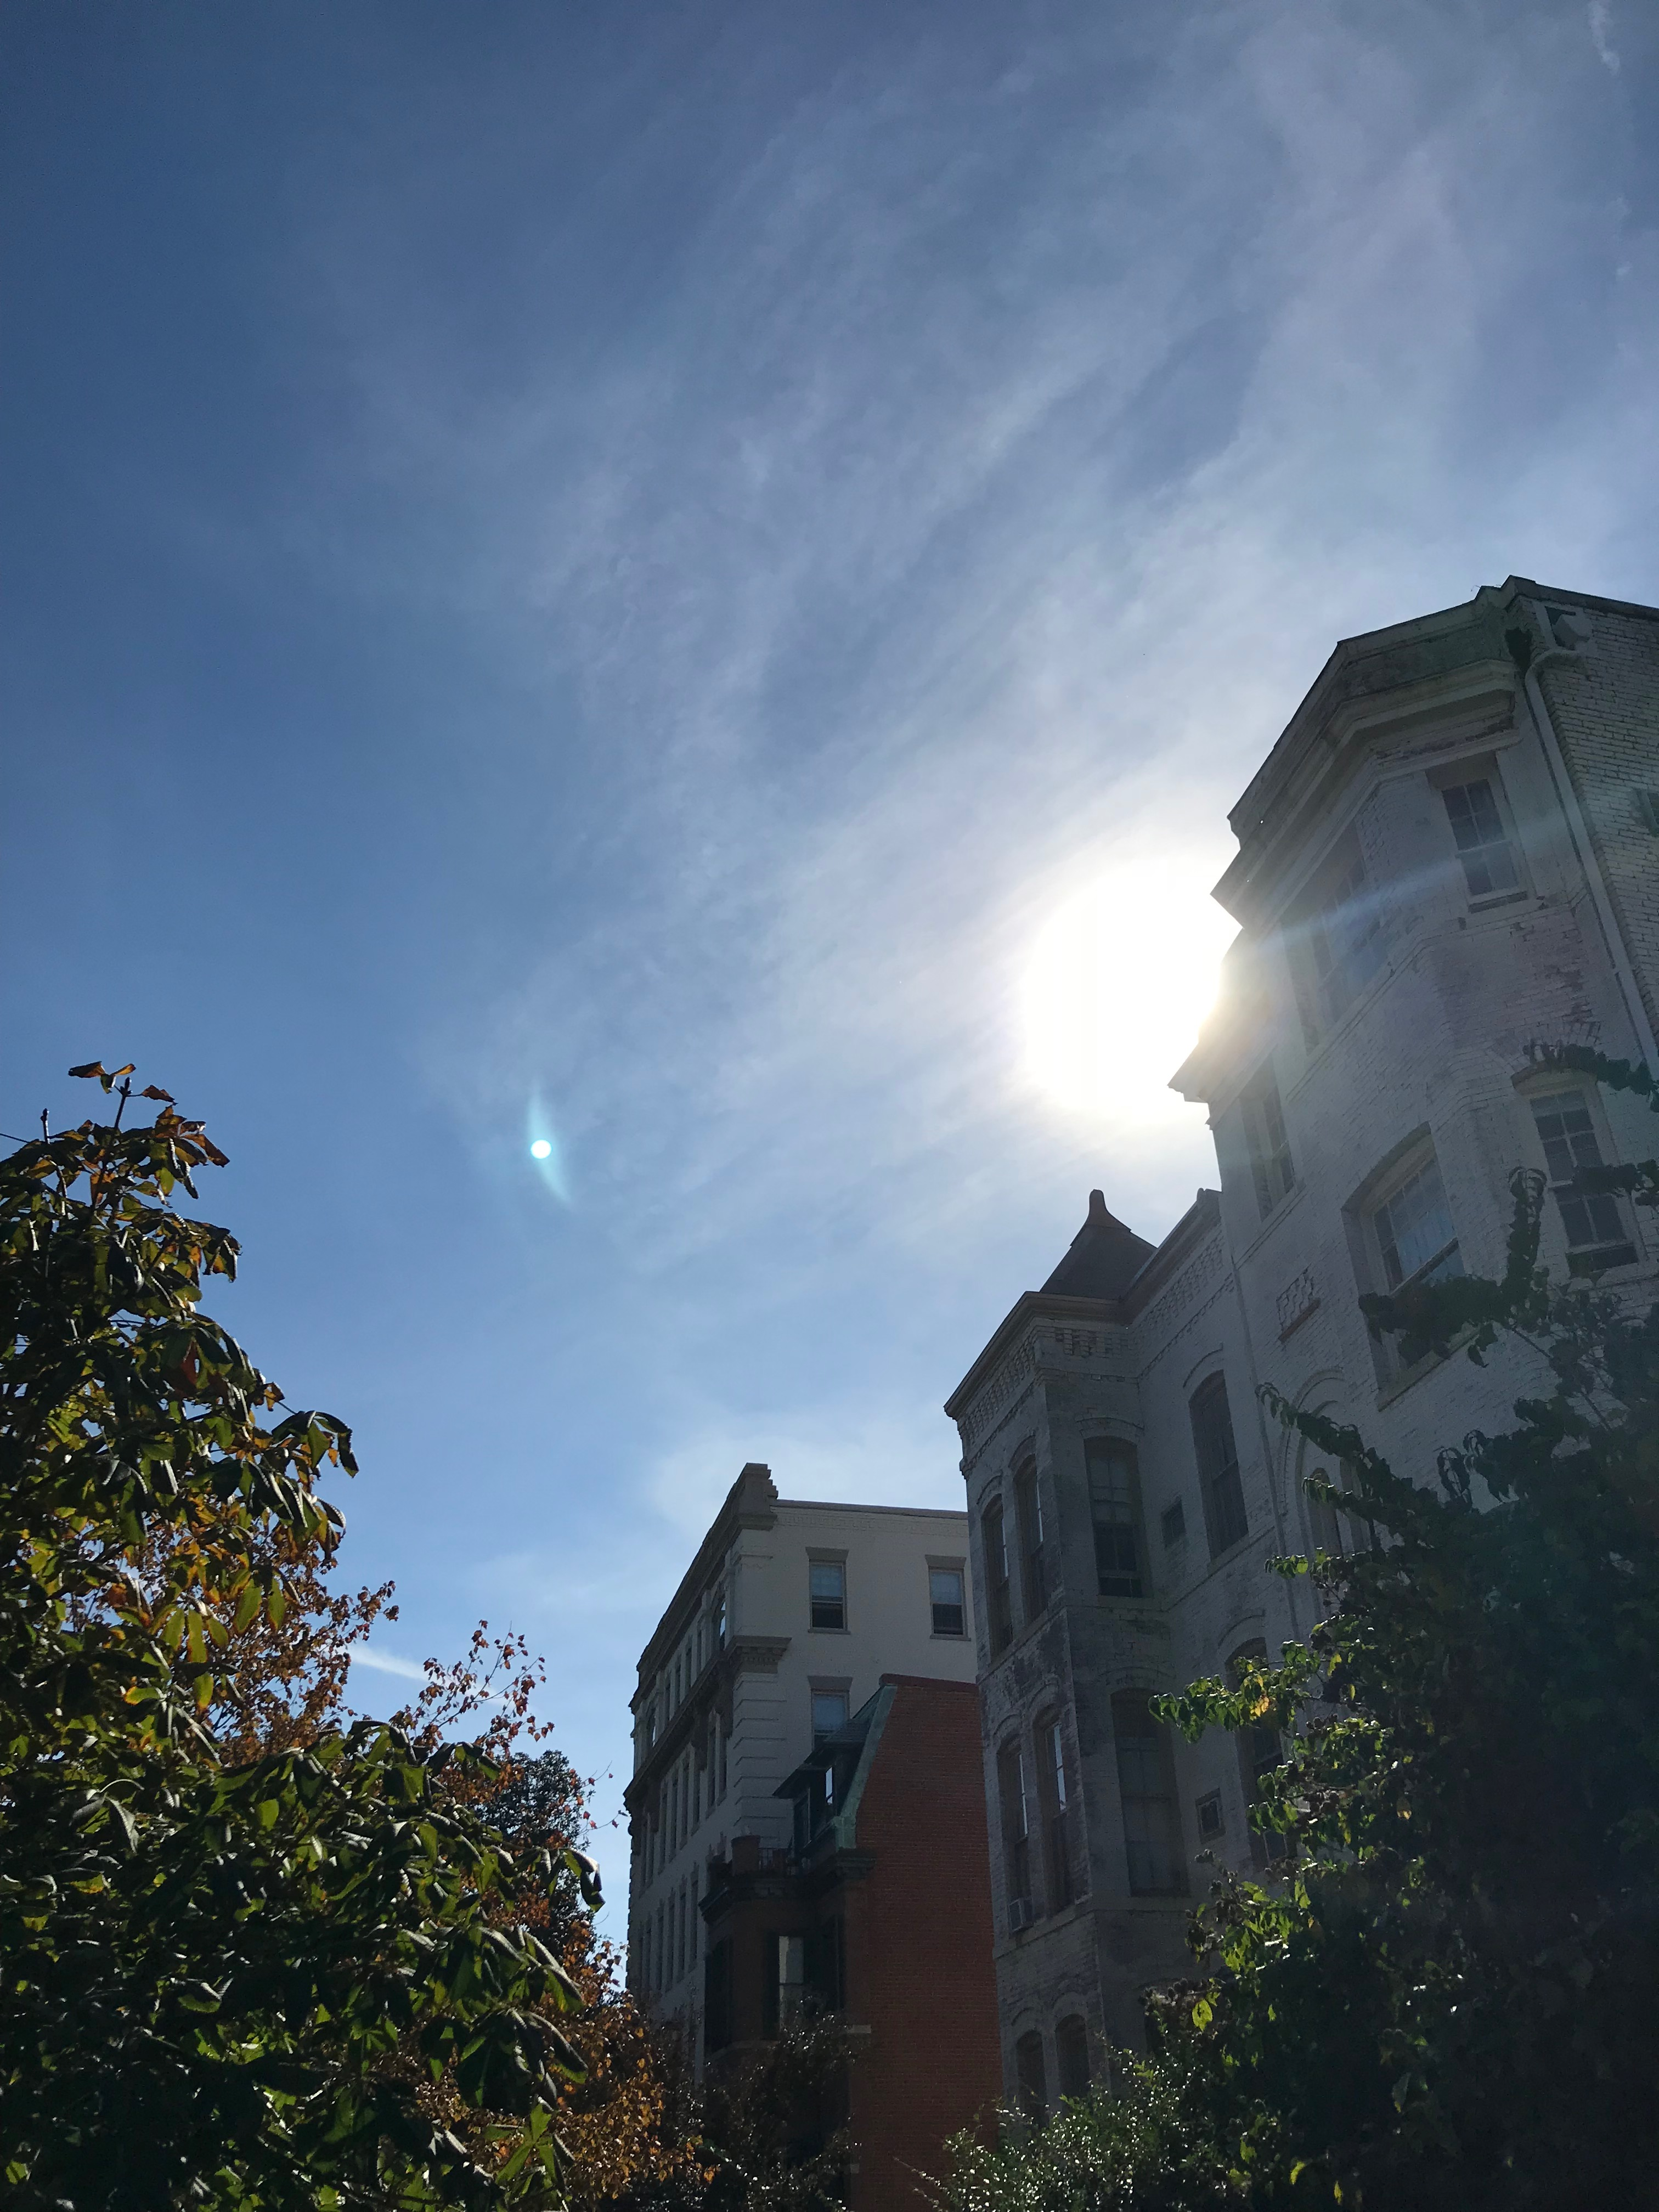flare: (530, 1137, 554, 1160)
